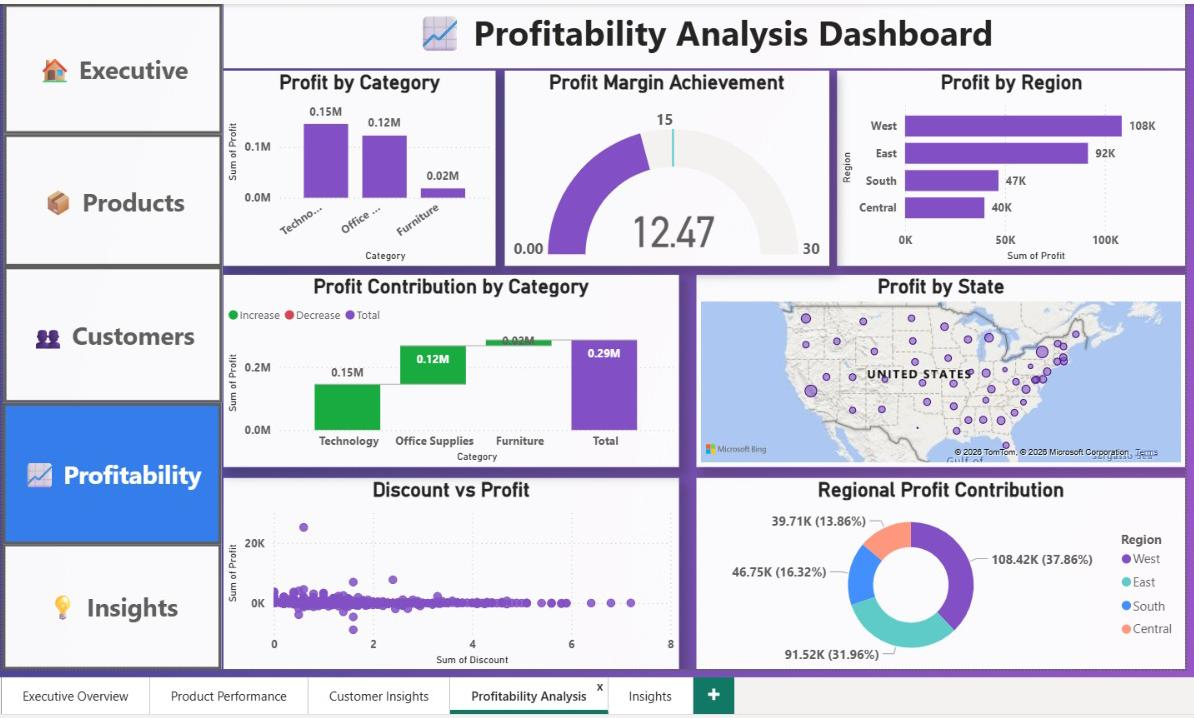

Layout of this report page (visuals, bound fields, positions):
{"tool":"powerbi","page":{"name":"Profitability Analysis","canvas":[1280,720],"ordinal":3},"visuals":[{"type":"clusteredBarChart","title":"Profit by Region","fields":{"Category":["Sample_ Superstore.Region"],"Y":["Sum(Sample_ Superstore.Profit)"]},"box":[902.5,72.1,377.9,211.6],"z":0},{"type":"actionButton","box":[0,584.3,236.5,136.3],"z":0,"group":"g2"},{"type":"actionButton","box":[1.4,0,236.5,140.5],"z":1000,"group":"g2"},{"type":"clusteredColumnChart","title":"Profit by Category","fields":{"Category":["Sample_ Superstore.Category"],"Y":["Sum(Sample_ Superstore.Profit)"]},"box":[238.5,72.1,294.7,211.6],"z":1000},{"type":"actionButton","box":[1.4,140.5,236.5,143.3],"z":2000,"group":"g2"},{"type":"map","title":"Profit by State","fields":{"Category":["Sample_ Superstore.State"],"Size":["Sum(Sample_ Superstore.Profit)"]},"box":[750.8,293.5,529.5,207.9],"z":2000},{"type":"actionButton","box":[1.4,283.8,236.5,147.5],"z":3000,"group":"g2"},{"type":"scatterChart","title":"Discount vs Profit ","fields":{"X":["Sum(Sample_ Superstore.Discount)"],"Y":["Sum(Sample_ Superstore.Profit)"],"Category":["Sample_ Superstore.Product Name"]},"box":[238.5,512.4,492.8,207.9],"z":3000},{"type":"actionButton","box":[0,431.3,236.5,153],"z":4000,"group":"g2"},{"type":"donutChart","title":"Regional Profit Contribution","fields":{"Category":["Sample_ Superstore.Region"],"Y":["Sum(Sample_ Superstore.Profit)"]},"box":[750.8,512.4,529.5,207.9],"z":4000},{"type":"gauge","title":"Profit Margin Achievement","fields":{"Y":["Sample_ Superstore.Profit Margin %"],"TargetValue":["Sample_ Superstore.Target Profit Margin"],"MaxValue":["Sample_ Superstore.Max Profit Margin"]},"box":[542.9,72.1,351,211.6],"z":5000},{"type":"waterfallChart","title":"Profit Contribution by Category","fields":{"Category":["Sample_ Superstore.Category"],"Y":["Sum(Sample_ Superstore.Profit)"]},"box":[238.5,293.5,492.8,207.9],"z":6000},{"type":"group","id":"g1","title":"Navigation Buttons","box":[0,0,237.9,720.7],"z":7000},{"type":"textbox","box":[238.5,0,1041.9,69.7],"z":8000},{"type":"group","id":"g2","title":"Group 1","box":[0,0,237.9,720.7],"z":8001,"group":"g1"}]}

Visuals, with their boxes in screenshot pixels (x1, y1, x2, y2):
"Profit by Region" clusteredBarChart: 830/69/1178/264
actionButton: 0/541/218/666
actionButton: 1/3/219/132
"Profit by Category" clusteredColumnChart: 219/69/491/264
actionButton: 1/132/219/264
"Profit by State" map: 691/273/1178/464
actionButton: 1/264/219/400
"Discount vs Profit " scatterChart: 219/474/673/666
actionButton: 0/400/218/541
"Regional Profit Contribution" donutChart: 691/474/1178/666
"Profit Margin Achievement" gauge: 499/69/822/264
"Profit Contribution by Category" waterfallChart: 219/273/673/464
"Navigation Buttons" group: 0/3/219/666
textbox: 219/3/1178/67
"Group 1" group: 0/3/219/666
